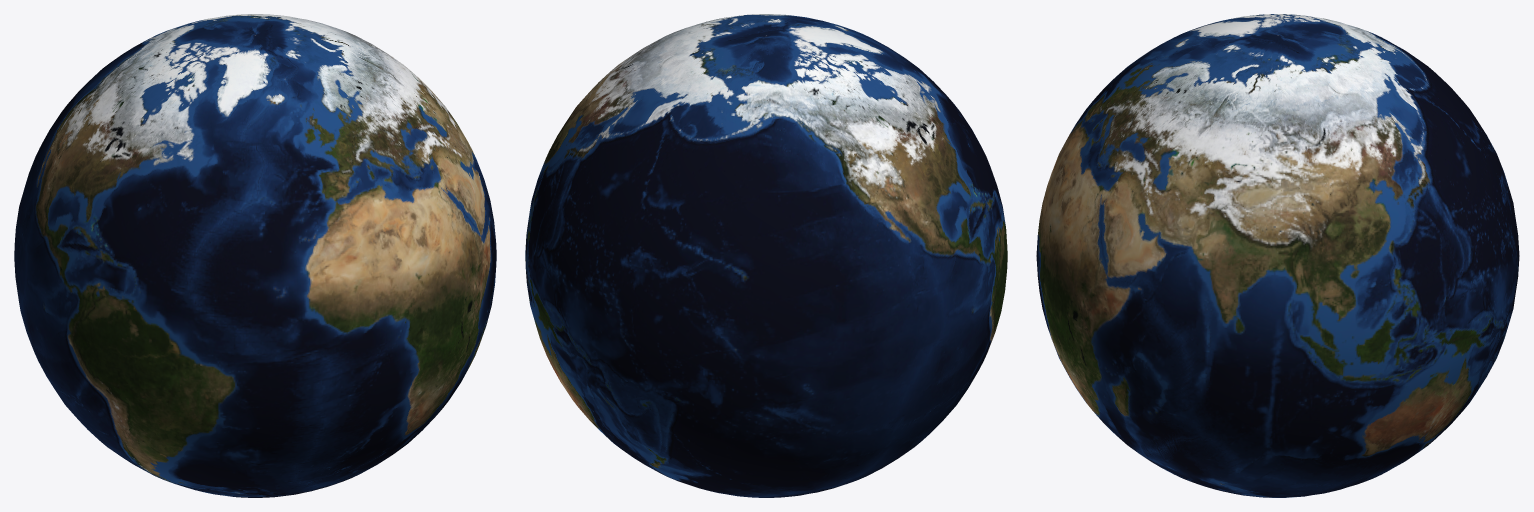
Rendered from earth.glb.
3 renders of one model, left to right at view 1: azimuth 30°, elevation 25°; view 2: azimuth 150°, elevation 25°; view 3: azimuth 270°, elevation 25°, orthographic.
Visible parts, largest first — view 1: earth; view 2: earth; view 3: earth.
Part boxes in pixels (<box>): earth: <box>14,14,496,497</box>; earth: <box>525,14,1007,497</box>; earth: <box>1036,14,1519,497</box>.
Bounding box in the file's own units: 1.99 × 2 × 1.99.
1 material, 1 textured.
